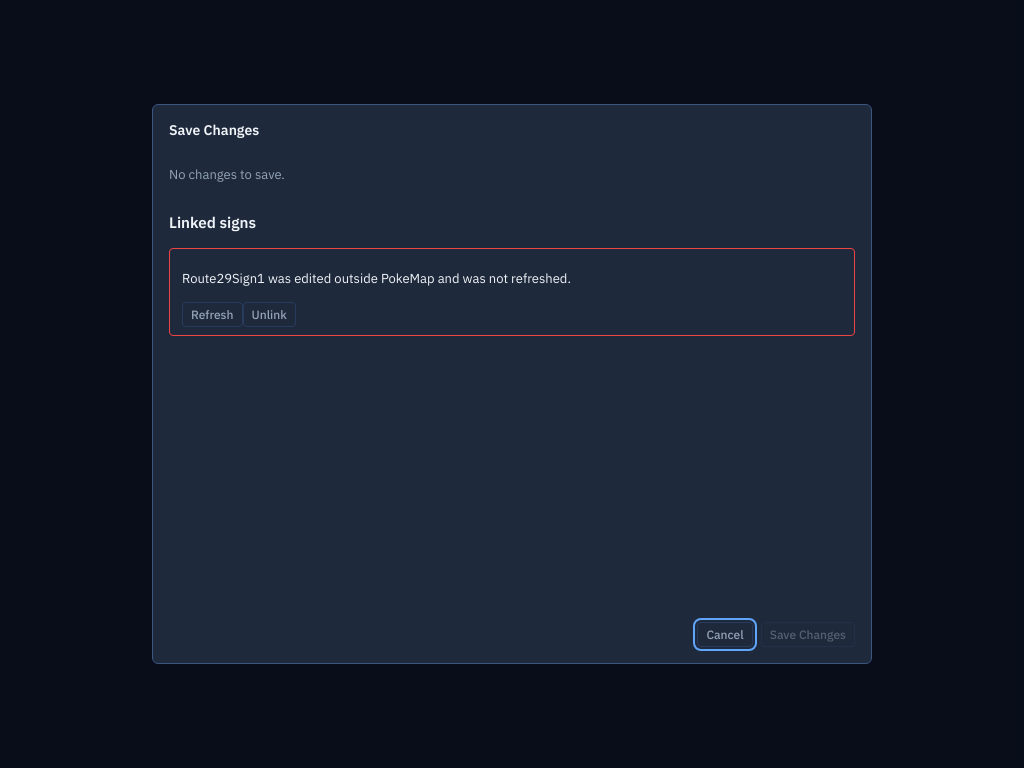
it: SaveDialog › shows linked sign notices and refresh re-plans before save
The width and height of the screenshot is (1024, 768).
Expected: the text "was edited outside PokeMap" is shown, 182,270 -> 571,288
Expected: the button "Save Changes" is disabled, 761,622 -> 855,647
Click the button with aria-label "Refresh Route29Sign1": (212, 314) 182,302 -> 242,327
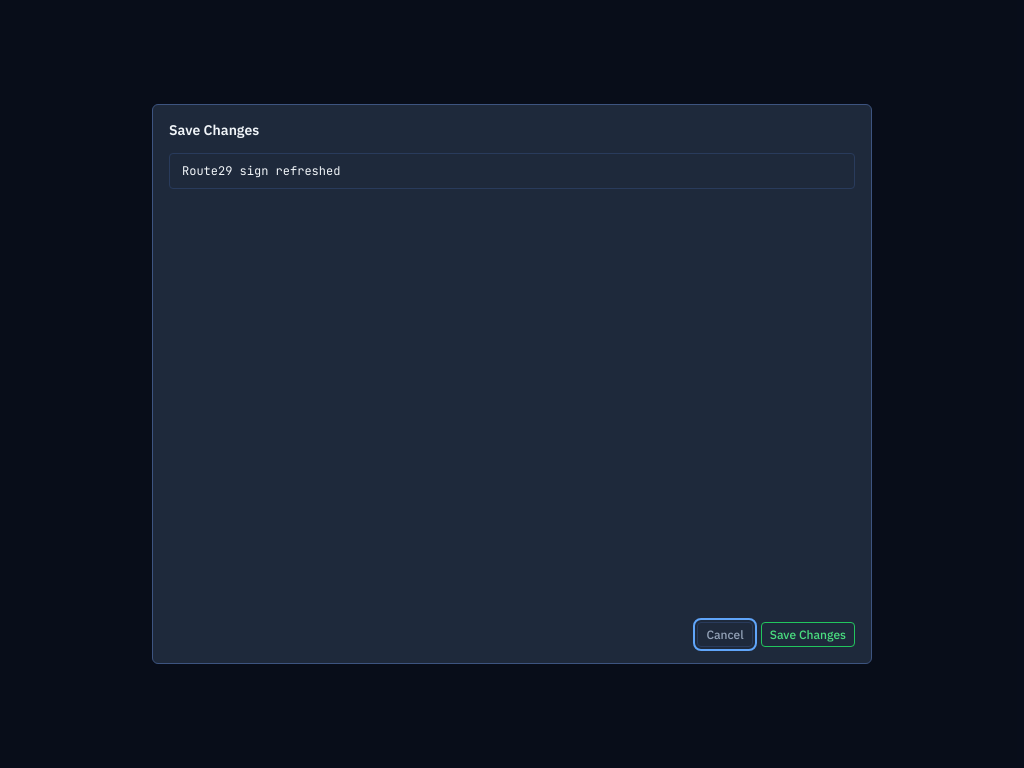
Now the text "Route29 sign refreshed" is shown, box 182,163 -> 340,179
